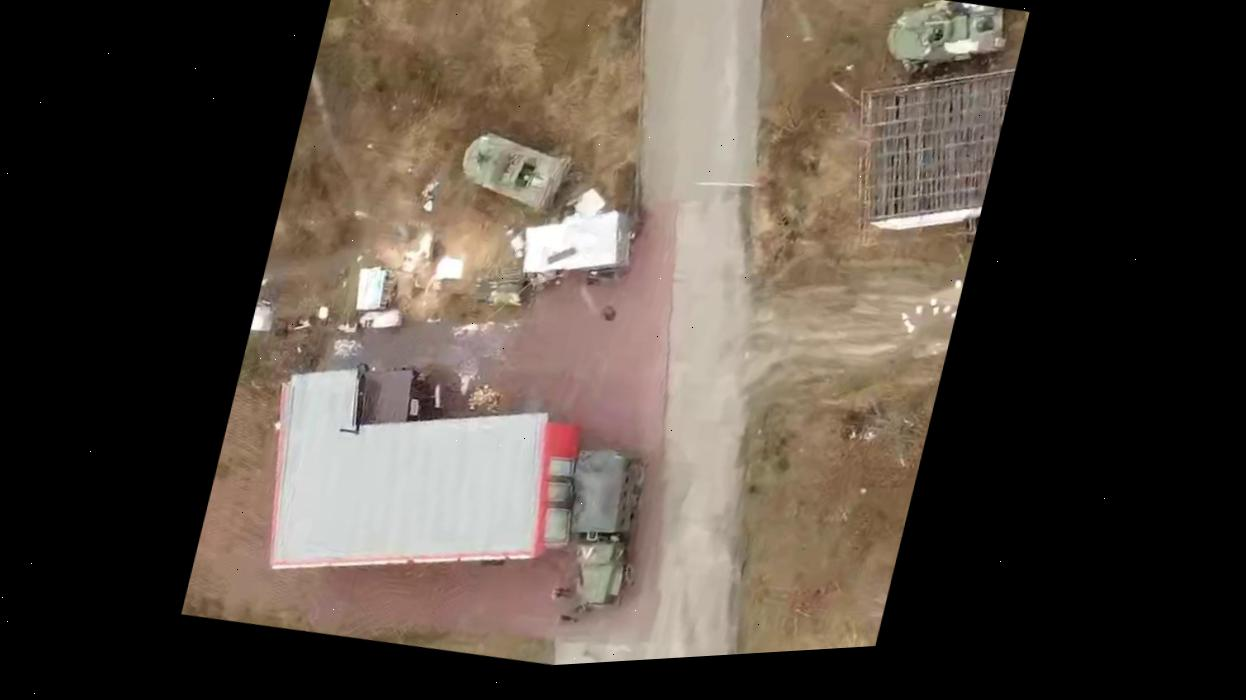person: (549, 608, 584, 635), (545, 581, 579, 604)
tank: (877, 0, 1015, 89), (451, 123, 576, 219)
truck: (539, 439, 664, 618)
